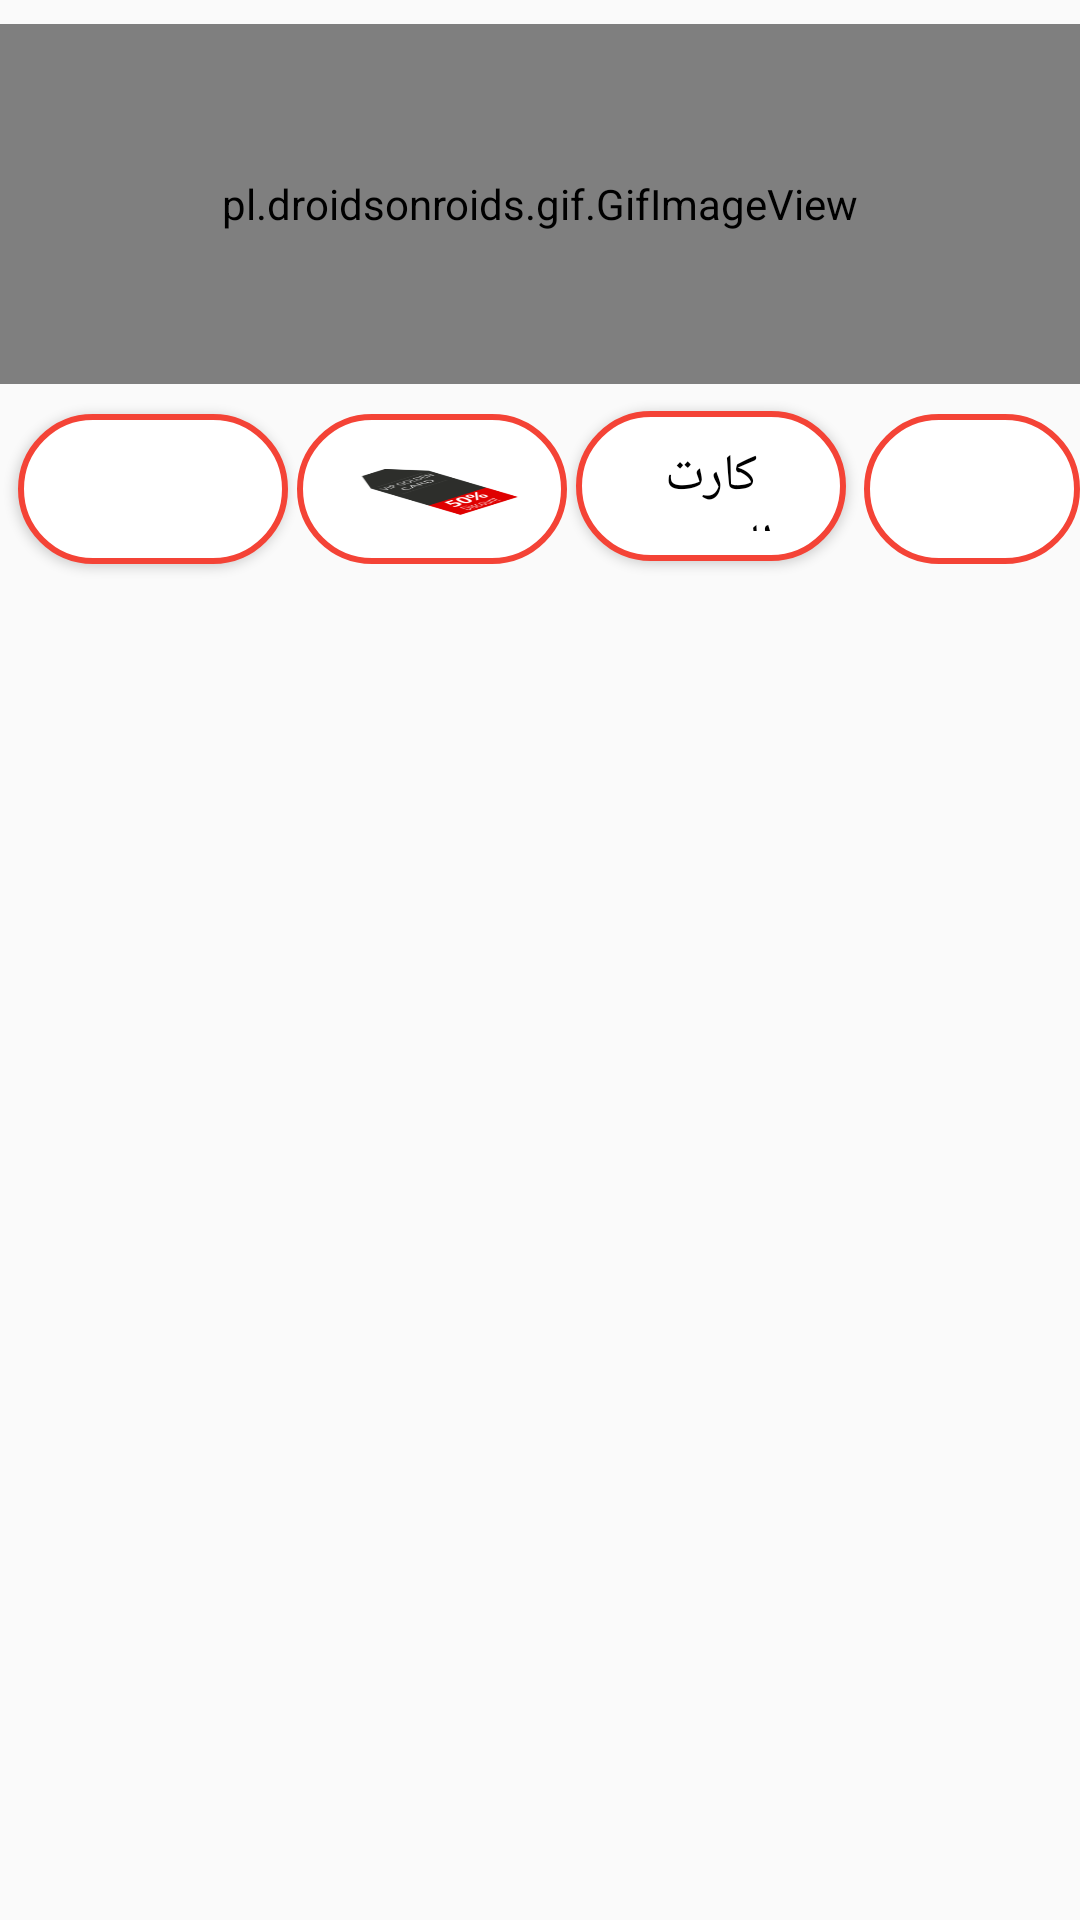

Icon click points for this 1080×1920 phone screenshot, format [x,y]:
discount: [432,489]
